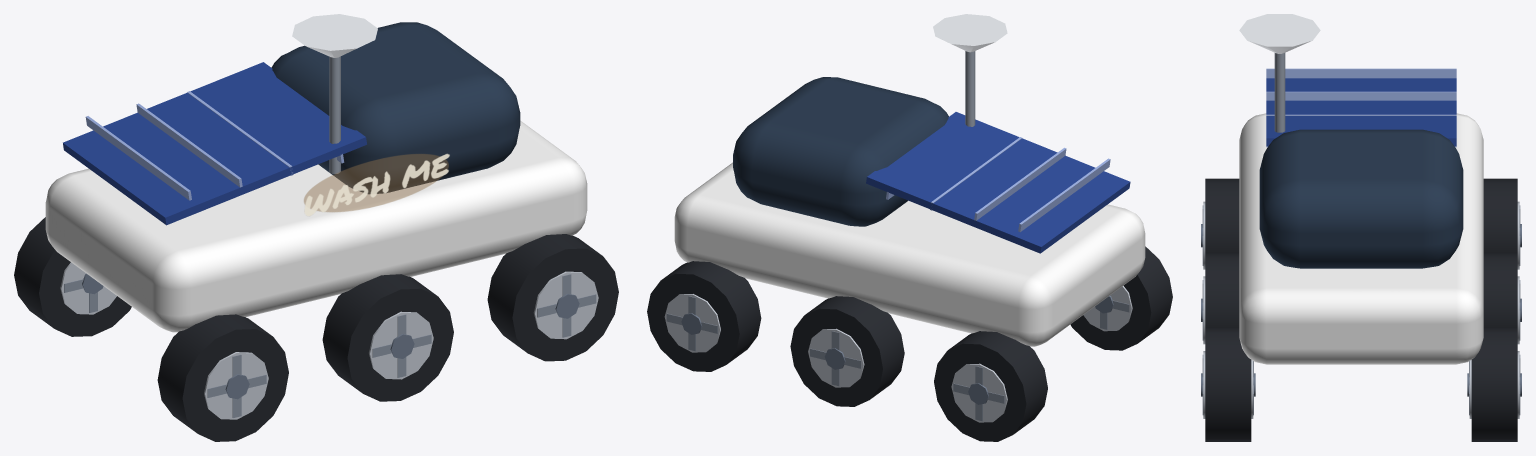
File: car_rover.glb
The picture shows the model from 3 angles, left to right: view 1: azimuth 30°, elevation 25°; view 2: azimuth 150°, elevation 25°; view 3: azimuth 270°, elevation 25°; orthographic projection. The views are drawn at different scales.
Visible parts, largest first — view 1: Paint, Trim, Wheel2, Wheel1, Wheel0, Wheel5, WashMe; view 2: Trim, Paint, Wheel5, Wheel3, Wheel4, Wheel2; view 3: Trim, Paint, Wheel0, Wheel3, Wheel2, Wheel5, Wheel1, Wheel4.
Part boxes in pixels (left/top/right/bottom): Paint: left=45, top=120, right=587, bottom=332; Trim: left=63, top=14, right=520, bottom=225; Wheel2: left=157, top=314, right=288, bottom=441; Wheel1: left=322, top=274, right=453, bottom=401; Wheel0: left=487, top=234, right=618, bottom=361; Wheel5: left=14, top=217, right=131, bottom=336; WashMe: left=304, top=153, right=449, bottom=216; Trim: left=733, top=14, right=1130, bottom=253; Paint: left=674, top=162, right=1145, bottom=346; Wheel5: left=934, top=331, right=1047, bottom=441; Wheel3: left=647, top=261, right=761, bottom=371; Wheel4: left=790, top=296, right=904, bottom=406; Wheel2: left=1070, top=246, right=1172, bottom=350; Trim: left=1239, top=14, right=1463, bottom=268; Paint: left=1239, top=113, right=1483, bottom=364; Wheel0: left=1201, top=328, right=1255, bottom=441; Wheel3: left=1467, top=328, right=1521, bottom=441; Wheel2: left=1201, top=178, right=1239, bottom=269; Wheel5: left=1483, top=178, right=1521, bottom=269; Wheel1: left=1201, top=253, right=1239, bottom=344; Wheel4: left=1483, top=253, right=1521, bottom=344.
Bounding box in the file's own units: 3.44 × 2.6 × 2.36.
9 materials, 1 textured.
